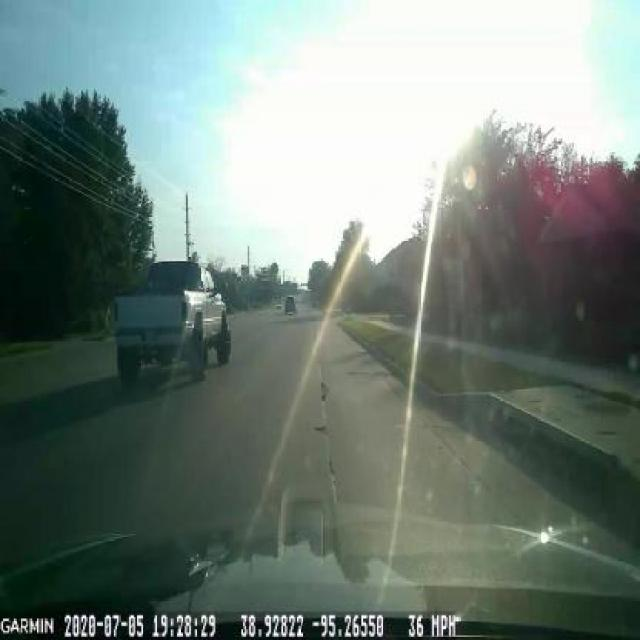Pothole: (314, 376, 335, 406), (309, 417, 331, 438)
